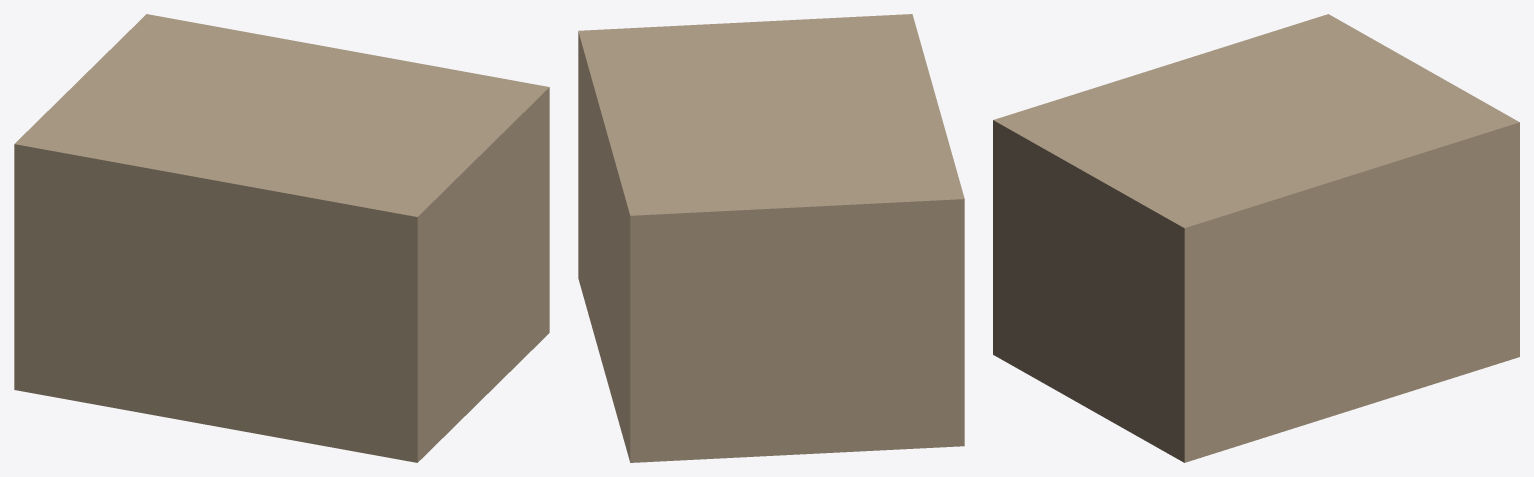
The model's file is bld_101374651.dae.
3 views of the same model, side by side, from view 1: azimuth 30°, elevation 25°; view 2: azimuth 150°, elevation 25°; view 3: azimuth 270°, elevation 25° (orthographic). The views are drawn at different scales.
Parts seen in each view (by area): view 1: bld_101374651; view 2: bld_101374651; view 3: bld_101374651.
Part boxes in pixels (x1,y1,x2,y2): bld_101374651: [14, 14, 549, 462]; bld_101374651: [578, 14, 964, 462]; bld_101374651: [993, 14, 1519, 462].
Bounding box in the file's own units: 15.66 × 16.27 × 8.
